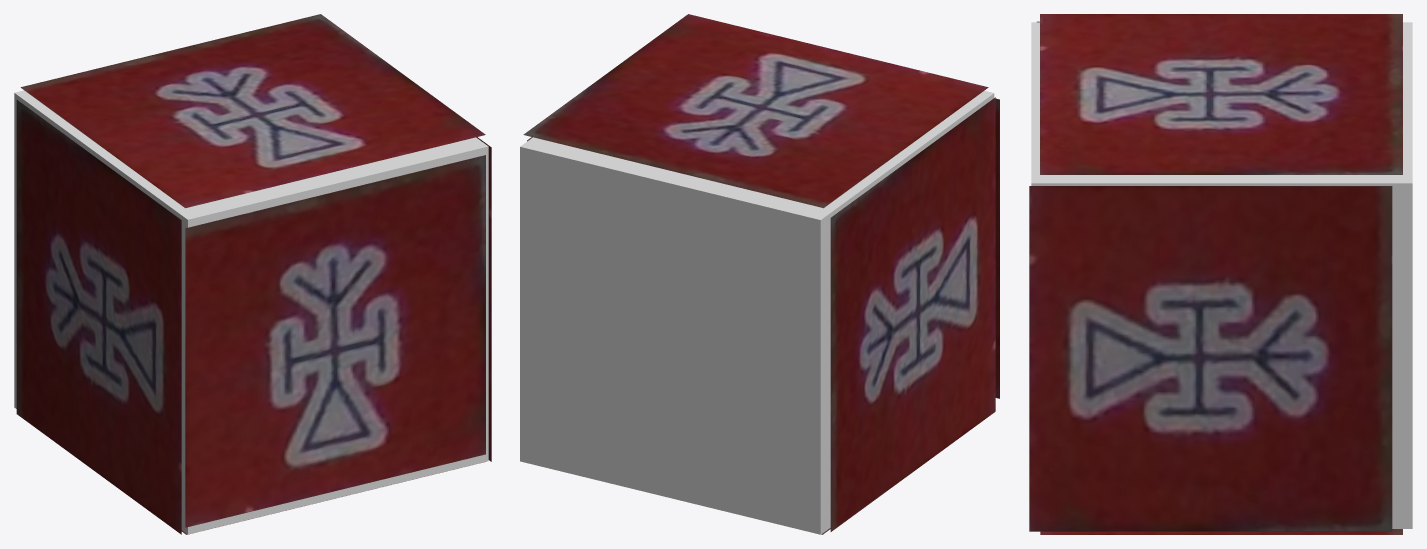
3 views of the same model, side by side, from view 1: azimuth 30°, elevation 25°; view 2: azimuth 150°, elevation 25°; view 3: azimuth 270°, elevation 25° (orthographic). The views are drawn at different scales.
Visible parts, largest first — view 1: R2.001, R2.002, R2, Link36, R2.004; view 2: Link36, R2.002, R2, R2.001; view 3: R2.004, R2, Link36, R2.003.
Part boxes in pixels (bbox=[...]): R2.001: bbox=[185, 155, 485, 527]; R2.002: bbox=[16, 100, 181, 534]; R2: bbox=[20, 14, 485, 208]; Link36: bbox=[14, 90, 488, 534]; R2.004: bbox=[476, 137, 491, 461]; Link36: bbox=[520, 90, 994, 534]; R2.002: bbox=[830, 97, 995, 531]; R2: bbox=[523, 14, 988, 208]; R2.001: bbox=[995, 98, 999, 398]; R2.004: bbox=[1029, 186, 1392, 531]; R2: bbox=[1040, 14, 1402, 174]; Link36: bbox=[1031, 22, 1412, 528]; R2.003: bbox=[1040, 529, 1402, 534].
Size of the model in its own units: 0.3578 by 0.3529 by 0.3637.
1 material, 1 textured.
